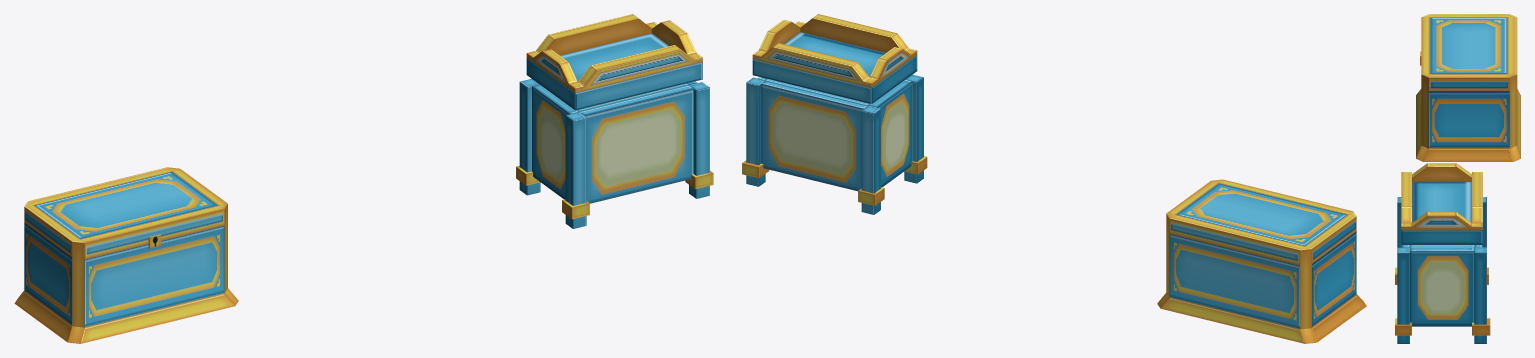
File: S3 Parts_fix.FBX
3 renders of one model, left to right at view 1: azimuth 30°, elevation 25°; view 2: azimuth 150°, elevation 25°; view 3: azimuth 270°, elevation 25°, orthographic. The views are drawn at different scales.
Parts seen in each view (by area): view 1: Object015, Object161; view 2: Object015, Object161; view 3: Object161, Object015.
Part boxes in pixels (left/top/right/bottom): Object015: left=516, top=14, right=713, bottom=228; Object161: left=14, top=167, right=238, bottom=343; Object015: left=742, top=14, right=927, bottom=214; Object161: left=1157, top=179, right=1366, bottom=343; Object161: left=1416, top=14, right=1520, bottom=161; Object015: left=1395, top=163, right=1490, bottom=343.
Bounding box in the file's own units: 5.3 × 1.26 × 1.09.
